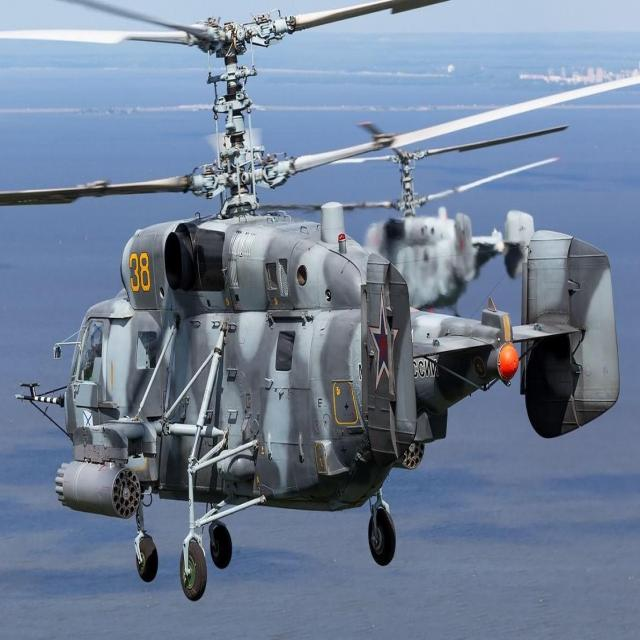MIL_HELO: (0, 0, 627, 611)
